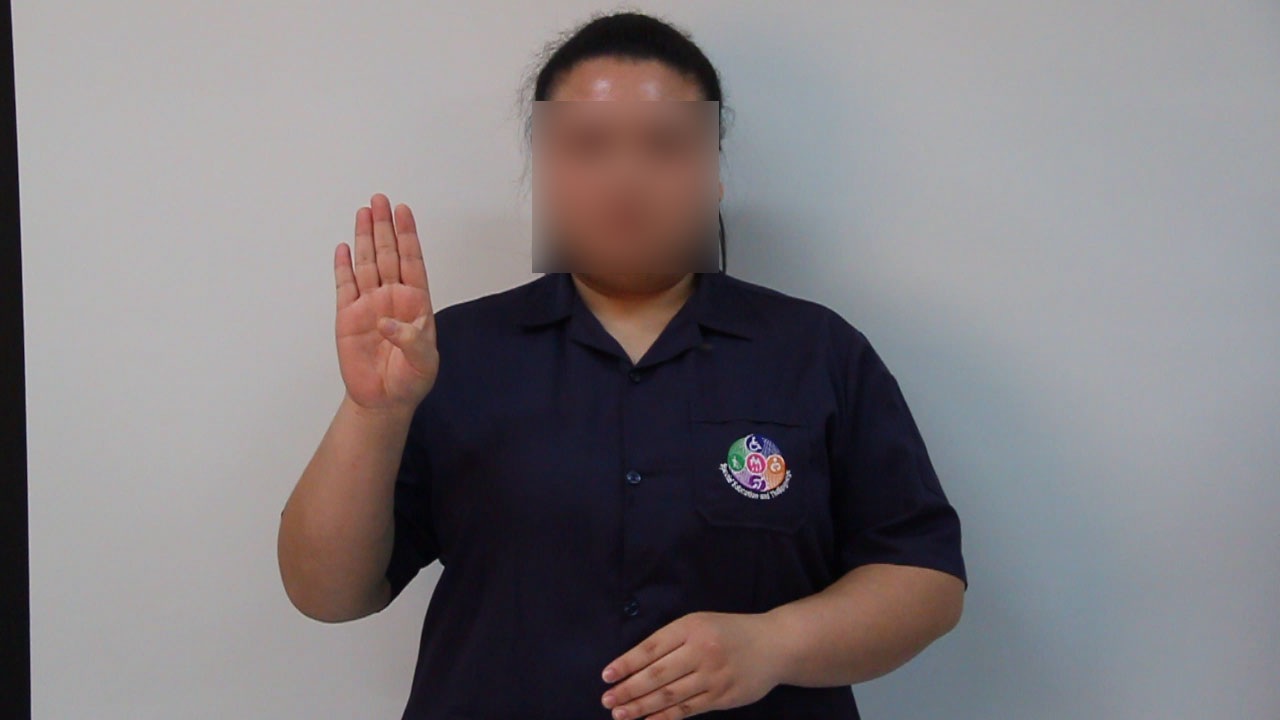bor: (314, 170, 463, 446)
